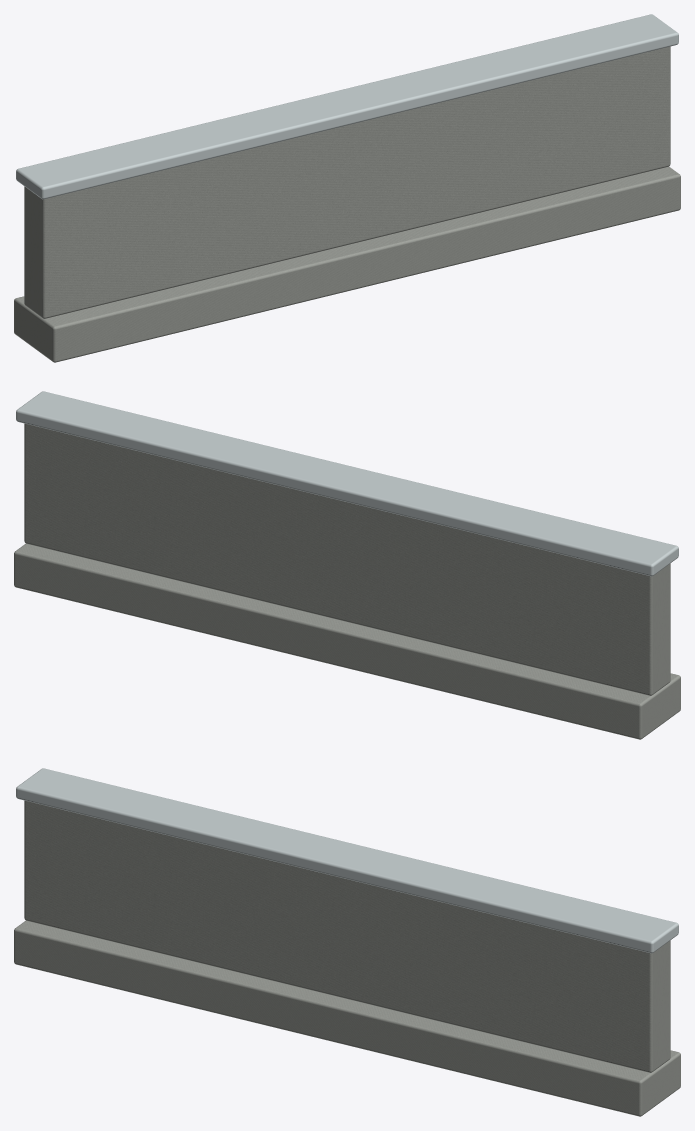
Rendered from hydroelectric-dam-infiltration-crest-barrier-34a3cfe3__29332.glb.
3 renders of one model, top to bottom at view 1: azimuth 30°, elevation 25°; view 2: azimuth 150°, elevation 25°; view 3: azimuth 330°, elevation 25°, orthographic.
Parts seen in each view (by area): view 1: crest-barrier; view 2: crest-barrier; view 3: crest-barrier.
Boxes of the visible parts, bbox=[...] form: crest-barrier: bbox=[14, 14, 680, 362]; crest-barrier: bbox=[14, 391, 680, 739]; crest-barrier: bbox=[14, 768, 680, 1116].
Size of the model in its own units: 4.06 by 1.04 by 0.4497.
Materials: 2 (1 with a texture image).
